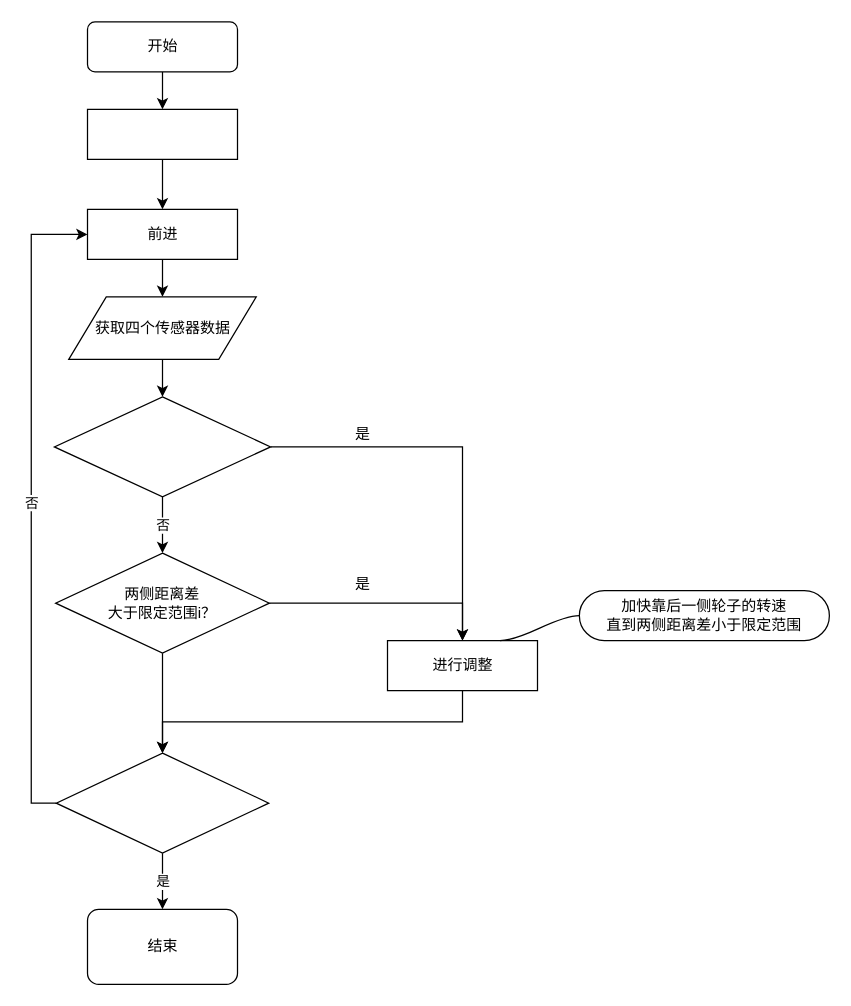
Some shapes in this 851 by 1006 pixel diagram are drawn without their labels. Here are the shapes that lost their labels. From the top down, the centre of each, then its label:
At point 162,133: "调整初始位置".
At point 162,446: "每侧前后两个传感器 之差大于限定范围？".
At point 162,802: "收到终止命令？".
